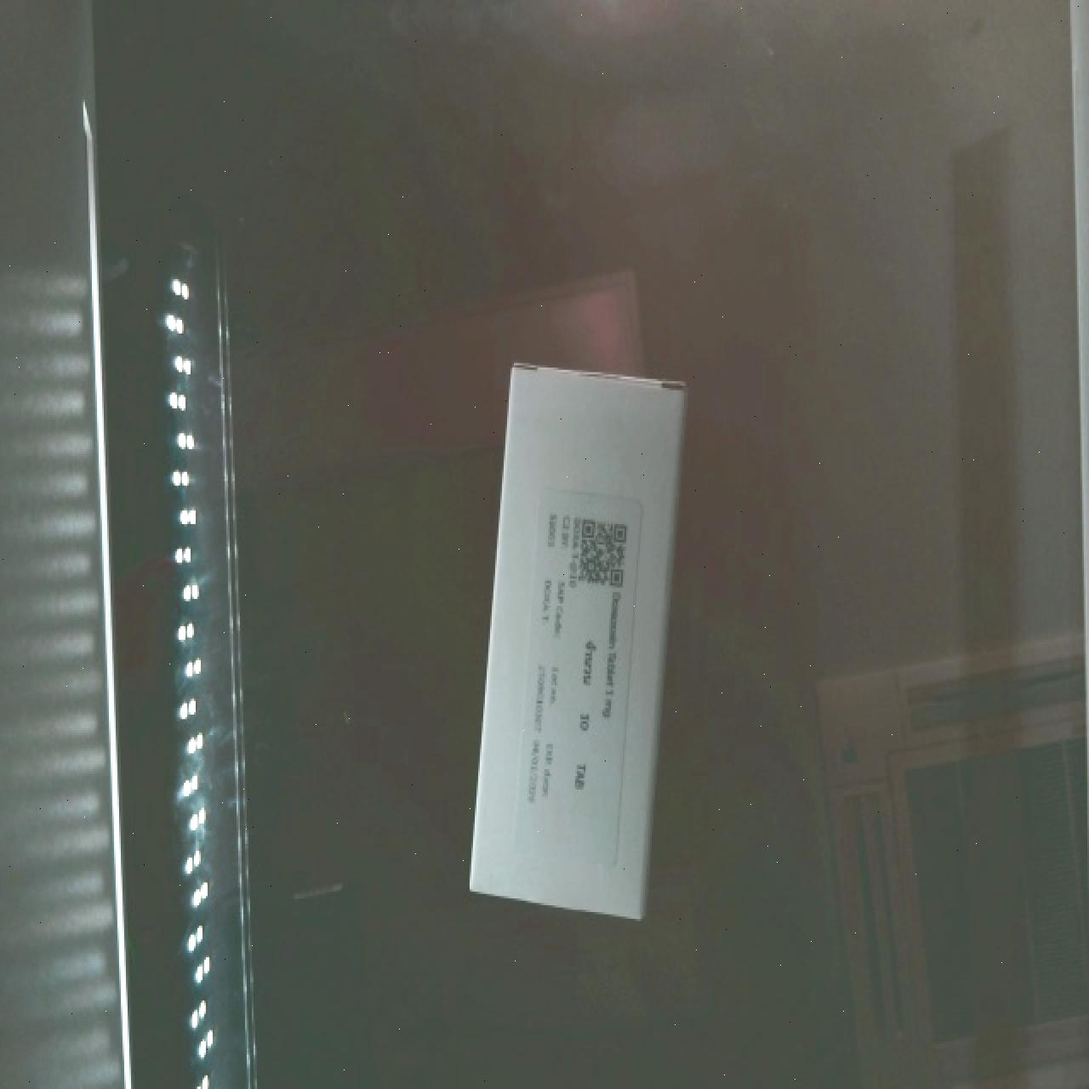qr_code: (564, 494, 633, 610)
